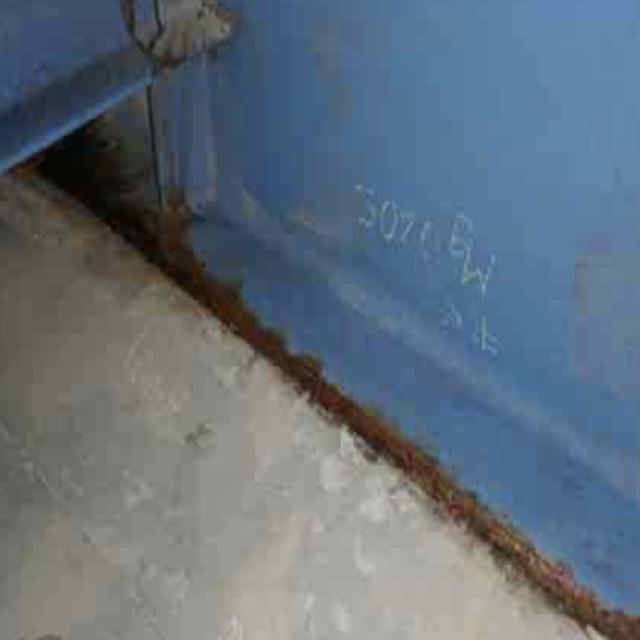corrosion: (49, 133, 626, 640)
